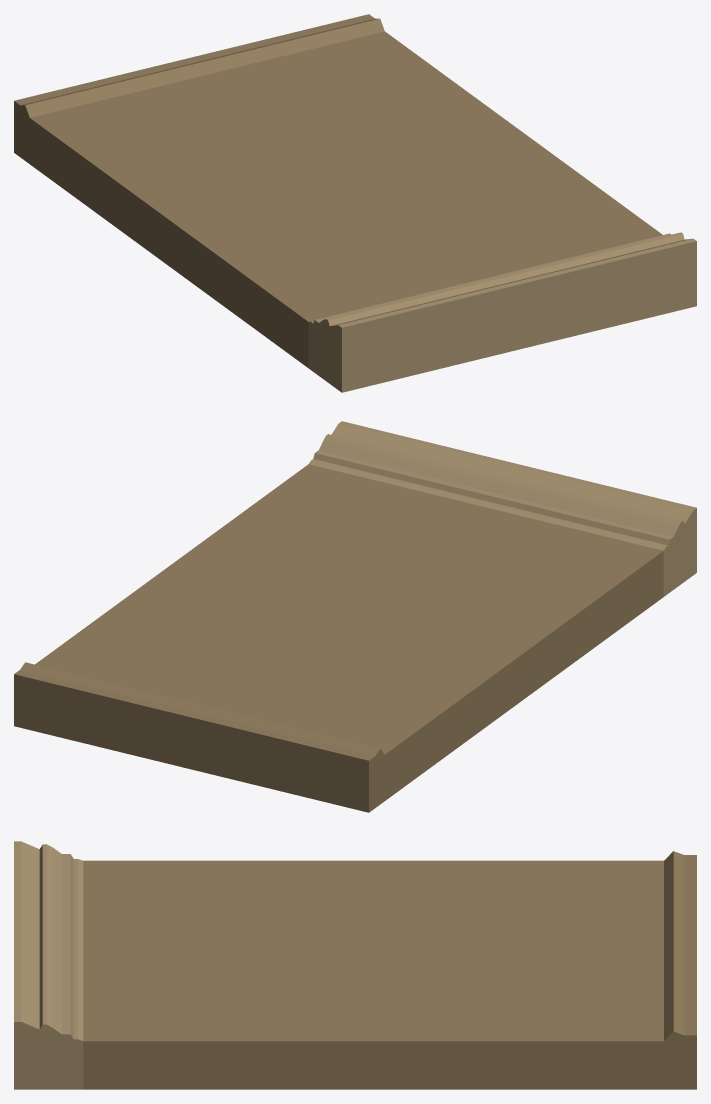
File: T01_Plain_Wall.obj
3 views of the same model, one above another, from view 1: azimuth 30°, elevation 25°; view 2: azimuth 150°, elevation 25°; view 3: azimuth 270°, elevation 25° (orthographic). The views are drawn at different scales.
Parts seen in each view (by area): view 1: T01_Plain_Wall; view 2: T01_Plain_Wall; view 3: T01_Plain_Wall.
Part boxes in pixels (bbox=[...]): T01_Plain_Wall: bbox=[14, 14, 696, 392]; T01_Plain_Wall: bbox=[14, 421, 696, 812]; T01_Plain_Wall: bbox=[14, 841, 696, 1089].
Size of the model in its own units: 4 by 0.7 by 6.4.
